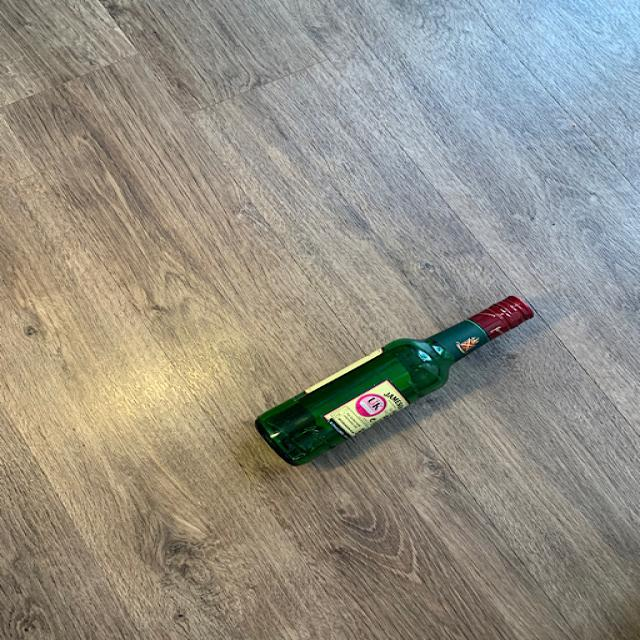litter: (248, 294, 538, 471)
